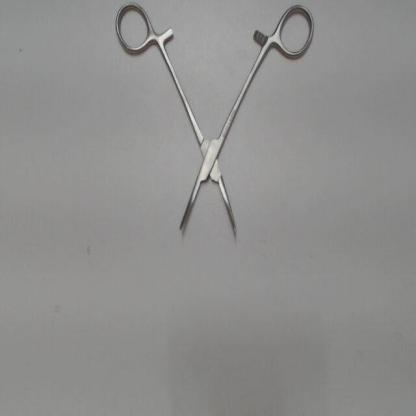Crile Artery Forceps: (99, 1, 317, 245)
